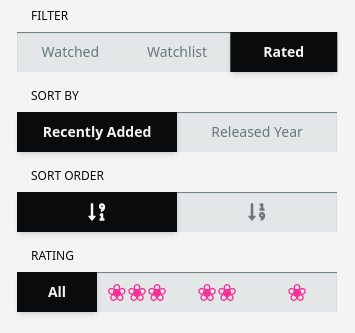
Test: MyFilmsControls — rating toggle › hides the Rating toggle when switching away from 'Rated'
Expected: the text "Rating" is shown, x1=31 y1=247 x2=74 y2=264
Click the button "Watched" at (70, 52), box x1=17 y1=32 x2=124 y2=72
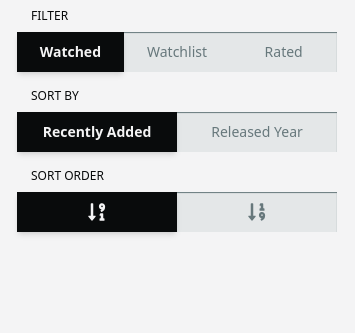
Result: the text "Rating" is gone
